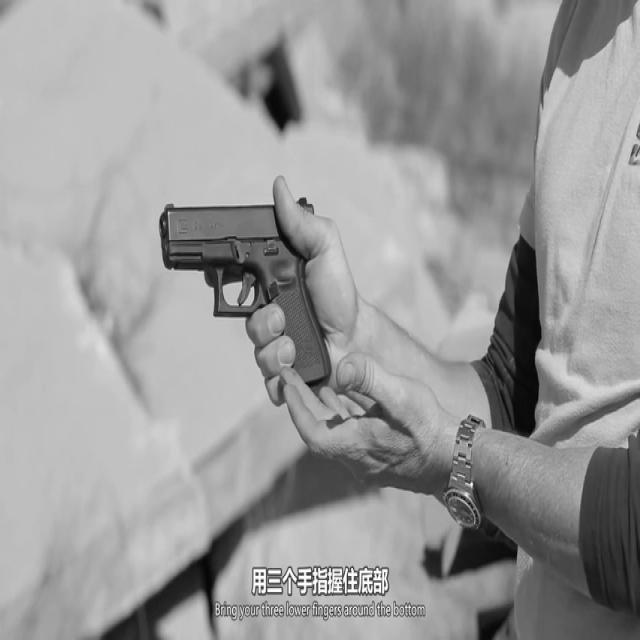Hand-Gun: (117, 153, 416, 478)
